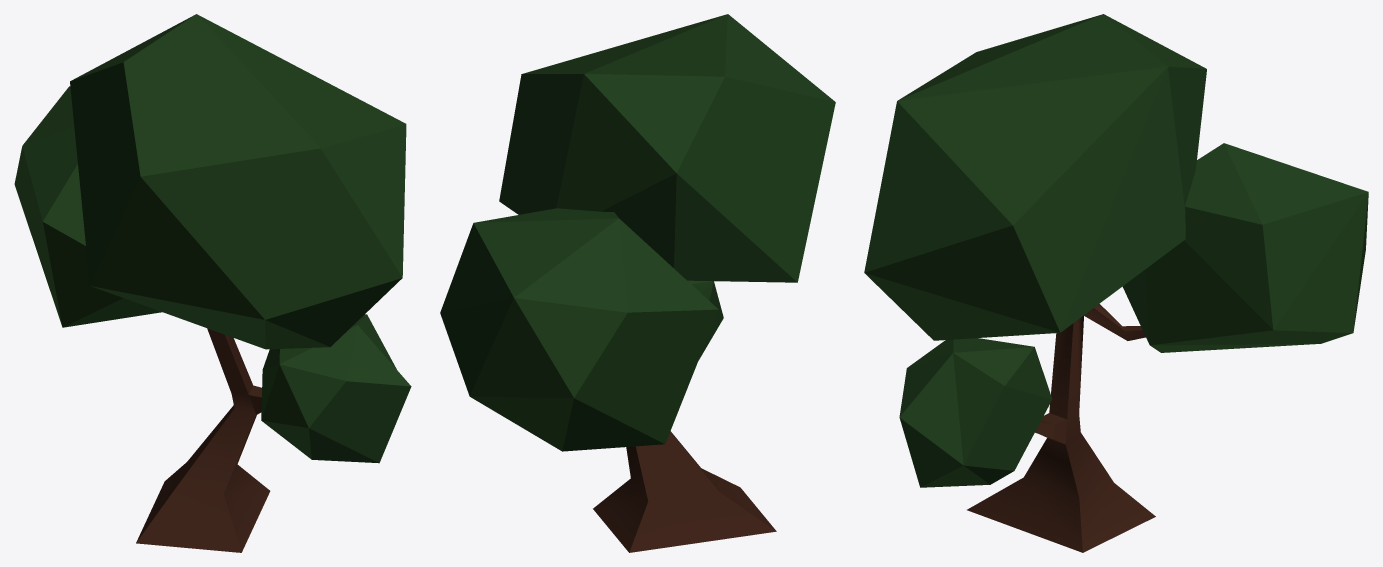
File: ARBOL.FBX
The picture shows the model from 3 angles, left to right: view 1: azimuth 30°, elevation 25°; view 2: azimuth 150°, elevation 25°; view 3: azimuth 270°, elevation 25°; orthographic projection. The views are drawn at different scales.
Visible parts, largest first — view 1: pino013; view 2: pino013; view 3: pino013.
Part boxes in pixels (x1,y1,x2,y2): pino013: (14,14,411,552); pino013: (440,14,835,552); pino013: (864,14,1368,552).
Bounding box in the file's own units: 50.6 × 75.65 × 73.62.
